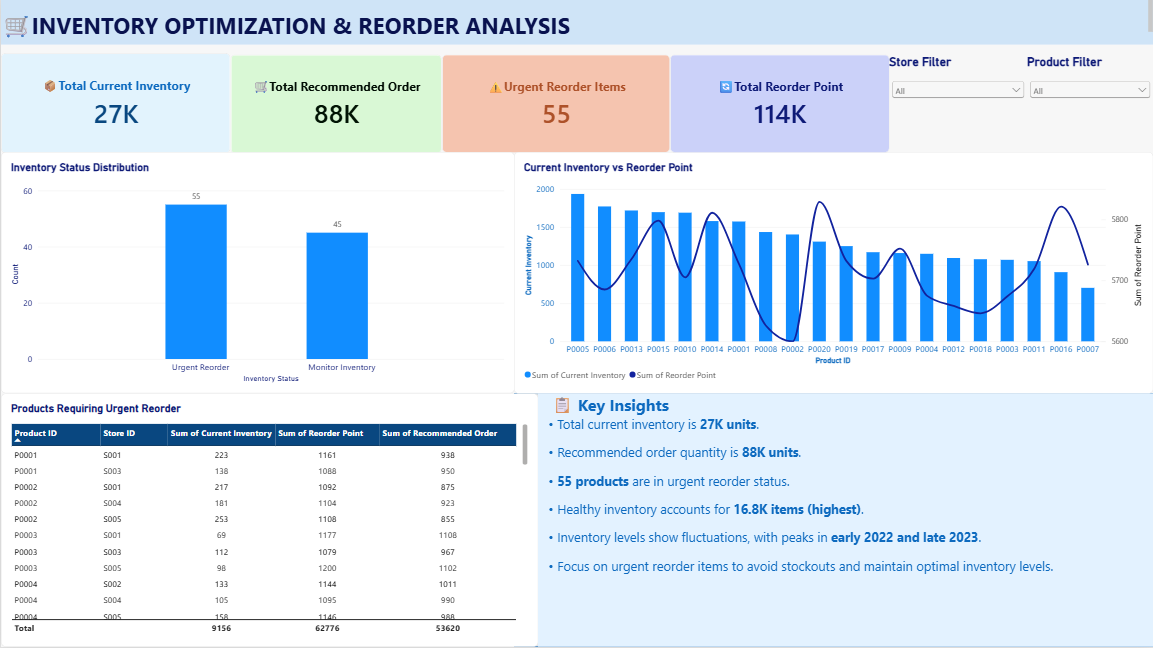

What the dashboard file says about the page in this screenshot:
{"tool":"powerbi","page":{"name":"Inventory Optimization","canvas":[1920,1080],"ordinal":1},"visuals":[{"type":"shape","box":[855,657.5,1065,422.5],"z":0},{"type":"textbox","box":[0,0,1920,76],"z":1000},{"type":"cardVisual","fields":{"Data":["Sum(final_inventory_optimization.Current Inventory)"]},"box":[0,90,382.5,167.5],"z":2000},{"type":"cardVisual","fields":{"Data":["Sum(final_inventory_optimization.Recommended Order)"]},"box":[382.5,92.5,352.5,165],"z":3000},{"type":"cardVisual","fields":{"Data":["final_inventory_optimization.Urgent Reorder Items"]},"box":[736,92,380,164],"z":4000},{"type":"clusteredColumnChart","title":"   Inventory Status Distribution","fields":{"Category":["final_inventory_optimization.Inventory Status"],"Y":["CountNonNull(final_inventory_optimization.Product ID)"]},"box":[0,256,856,402],"z":5000},{"type":"lineClusteredColumnComboChart","title":"Current Inventory vs Reorder Point","fields":{"Category":["final_inventory_optimization.Product ID"],"Y":["Sum(final_inventory_optimization.Current Inventory)"],"Y2":["Sum(final_inventory_optimization.Reorder Point)"]},"box":[855,255,1065,402.5],"z":6000},{"type":"cardVisual","fields":{"Data":["Sum(final_inventory_optimization.Reorder Point)"]},"box":[1116,92,366,164],"z":7000},{"type":"tableEx","title":"Products Requiring Urgent Reorder","fields":{"Values":["final_inventory_optimization.Product ID","final_inventory_optimization.Store ID","Sum(final_inventory_optimization.Current Inventory)","Sum(final_inventory_optimization.Reorder Point)","Sum(final_inventory_optimization.Recommended Order)"]},"box":[0,658.3,895,421.7],"z":8000},{"type":"slicer","title":"Store Filter","fields":{"Values":["final_inventory_optimization.Store ID"]},"box":[1480,92.5,230,102.5],"z":9000},{"type":"slicer","title":"Product Filter","fields":{"Values":["final_inventory_optimization.Product ID"]},"box":[1710,92.5,210,102.5],"z":10000},{"type":"textbox","box":[895,658.3,1025,421.7],"z":11000}]}

Visuals, with their boxes in screenshot pixels (x1, y1, x2, y2), scaled from the page's 1920x1080 canvas onto the 1153x648 screenshot:
shape: pyautogui.locateOnScreen(513, 394, 1152, 647)
textbox: pyautogui.locateOnScreen(0, 0, 1152, 46)
cardVisual - Sum(final_inventory_optimization.Current Inventory): pyautogui.locateOnScreen(0, 54, 230, 154)
cardVisual - Sum(final_inventory_optimization.Recommended Order): pyautogui.locateOnScreen(230, 56, 441, 154)
cardVisual - final_inventory_optimization.Urgent Reorder Items: pyautogui.locateOnScreen(442, 55, 670, 154)
"   Inventory Status Distribution" clusteredColumnChart: pyautogui.locateOnScreen(0, 154, 514, 395)
"Current Inventory vs Reorder Point" lineClusteredColumnComboChart: pyautogui.locateOnScreen(513, 153, 1152, 394)
cardVisual - Sum(final_inventory_optimization.Reorder Point): pyautogui.locateOnScreen(670, 55, 890, 154)
"Products Requiring Urgent Reorder" tableEx: pyautogui.locateOnScreen(0, 395, 537, 647)
"Store Filter" slicer: pyautogui.locateOnScreen(889, 56, 1027, 117)
"Product Filter" slicer: pyautogui.locateOnScreen(1027, 56, 1152, 117)
textbox: pyautogui.locateOnScreen(537, 395, 1152, 647)
